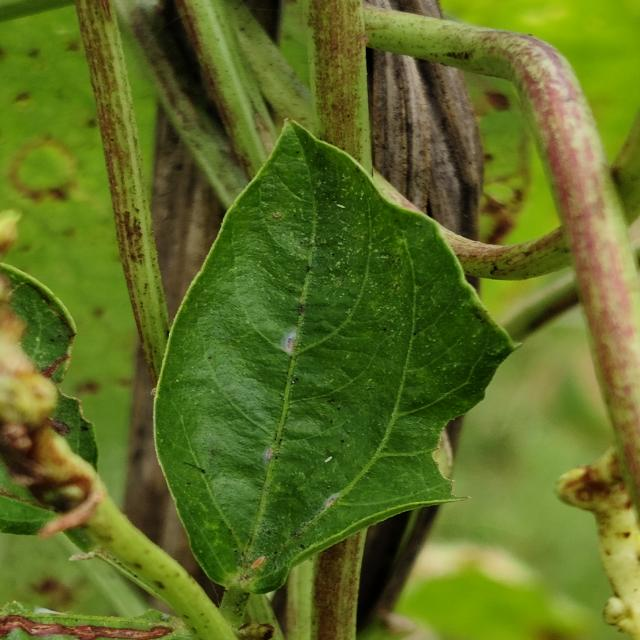leaf-low: (155, 122, 517, 620)
sitaw-aphid-high: (11, 265, 100, 471), (0, 461, 55, 537)
